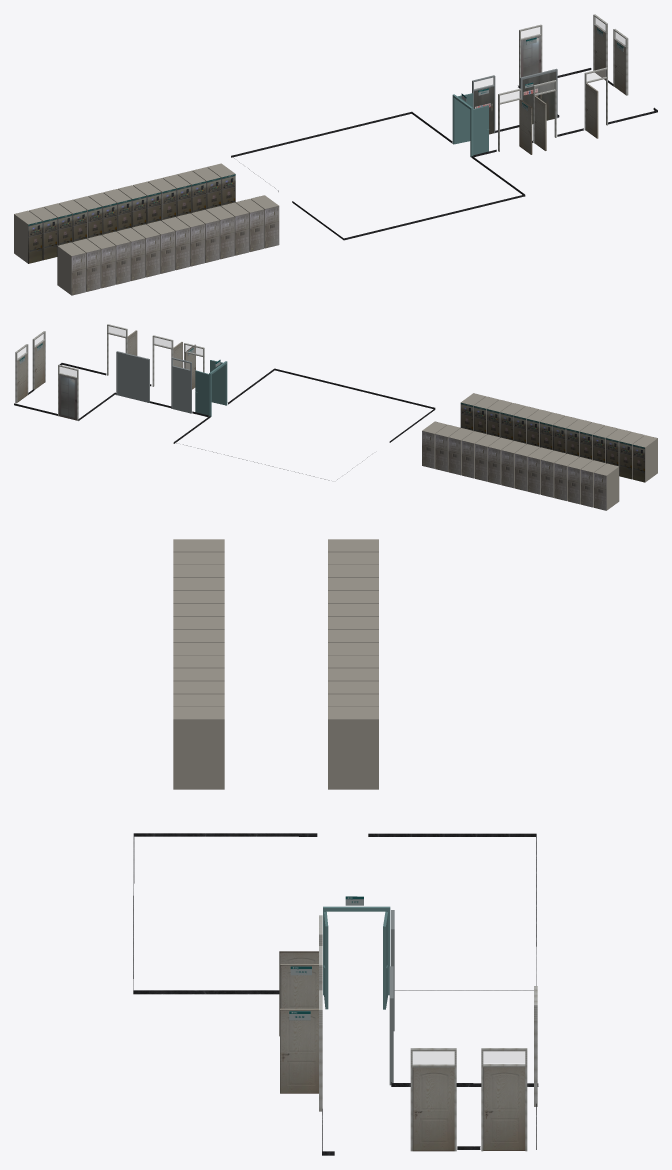
3 views of the same model, one above another, from view 1: azimuth 30°, elevation 25°; view 2: azimuth 150°, elevation 25°; view 3: azimuth 270°, elevation 25° (orthographic). The views are drawn at different scales.
Visible parts, largest first — view 1: 24-材质.72, 24-材质.73, 24-Material #356 (×3), 24-Material #357 (×2), 24-Material #320, 24-材质.92, 24-材质.93, 24-Material #356.1, 24-材质.门牌, 24-e14.1, 24-e13.1, 24-材质.88 (+10 smaller); view 2: 24-材质.72, 24-材质.73, 24-材质.88, 24-Material #357 (×2), 24-Material #356 (×2), 24-Material #320, 24-材质.92, 24-Material #356.1, 24-材质.门牌, 24-e13, 24-e14, 24-e10 (+12 smaller); view 3: 24-材质.72, 24-Material #356 (×2), 24-Material #357 (×2), 24-Material #320, 24-材质.92, 24-材质.88.
Boxes of the visible parts, box(x1,y1,x2,y2) form: 24-材质.72: box(14, 163, 278, 295); 24-材质.73: box(71, 174, 279, 295); 24-Material #356 (×3): box(519, 26, 625, 154); 24-Material #357 (×2): box(498, 14, 628, 151); 24-Material #320: box(231, 68, 657, 240); 24-材质.92: box(454, 93, 489, 154); 24-材质.93: box(474, 71, 555, 134); 24-Material #356.1: box(521, 36, 541, 77); 24-材质.门牌: box(474, 31, 625, 101); 24-e14.1: box(28, 221, 42, 263); 24-e13.1: box(43, 217, 57, 260); 24-材质.88: box(472, 68, 557, 133); 24-材质.72: box(422, 393, 657, 510); 24-材质.73: box(422, 412, 606, 510); 24-材质.88: box(116, 351, 191, 413); 24-Material #357 (×2): box(15, 324, 204, 420); 24-Material #356 (×2): box(17, 330, 182, 402); 24-Material #320: box(14, 363, 435, 480); 24-材质.92: box(195, 360, 224, 415); 24-Material #356.1: box(59, 374, 76, 420); 24-材质.门牌: box(35, 326, 202, 369); 24-e13: box(619, 441, 631, 479); 24-e14: box(632, 444, 644, 482); 24-e10: box(579, 431, 592, 459); 24-材质.72: box(173, 539, 378, 789); 24-Material #356 (×2): box(280, 964, 525, 1151); 24-Material #357 (×2): box(319, 915, 537, 1151); 24-Material #320: box(133, 833, 538, 1155); 24-材质.92: box(323, 911, 388, 1009); 24-材质.88: box(389, 910, 394, 1085).
Bounding box in the file's own units: 29.15 × 2.54 × 9.16.
48 materials, 42 textured.
